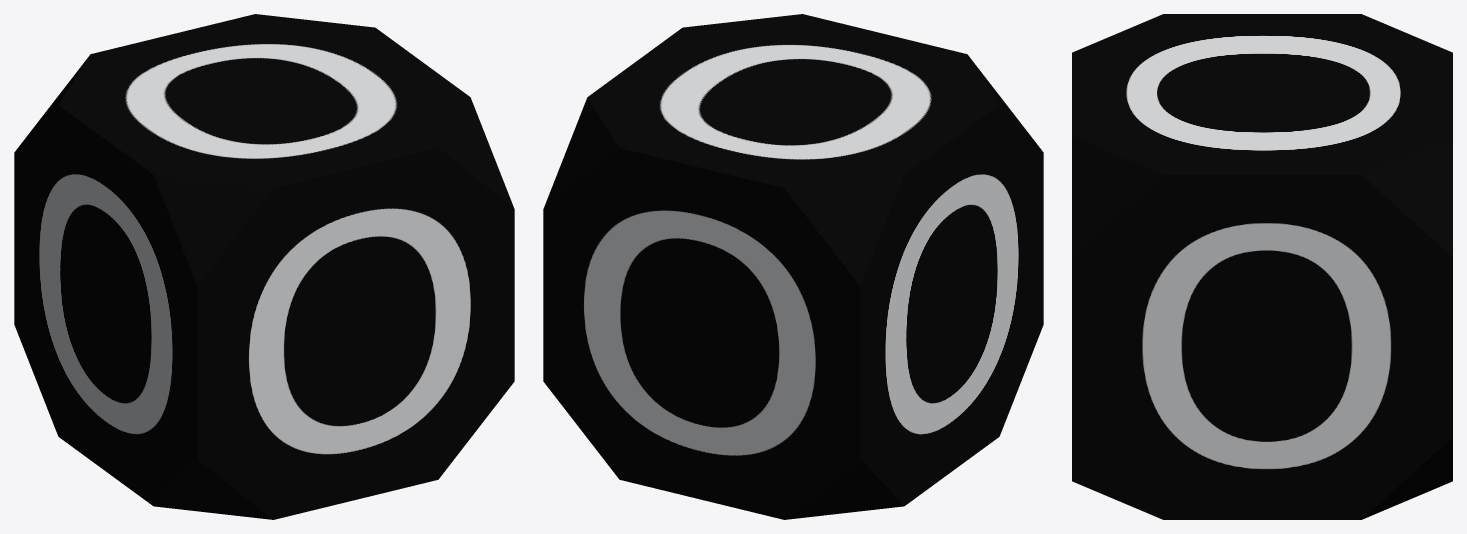
Rendered from VRBlocks - Play.fbx.
3 renders of one model, left to right at view 1: azimuth 30°, elevation 25°; view 2: azimuth 150°, elevation 25°; view 3: azimuth 270°, elevation 25°, orthographic. The views are drawn at different scales.
Parts seen in each view (by area): view 1: Cube.015; view 2: Cube.015; view 3: Cube.015.
Part boxes in pixels (left/top/right/bottom): Cube.015: left=14, top=14, right=514, bottom=519; Cube.015: left=543, top=14, right=1043, bottom=519; Cube.015: left=1072, top=14, right=1452, bottom=519.
Bounding box in the file's own units: 50 × 50 × 50.
Materials: 1 (1 with a texture image).
